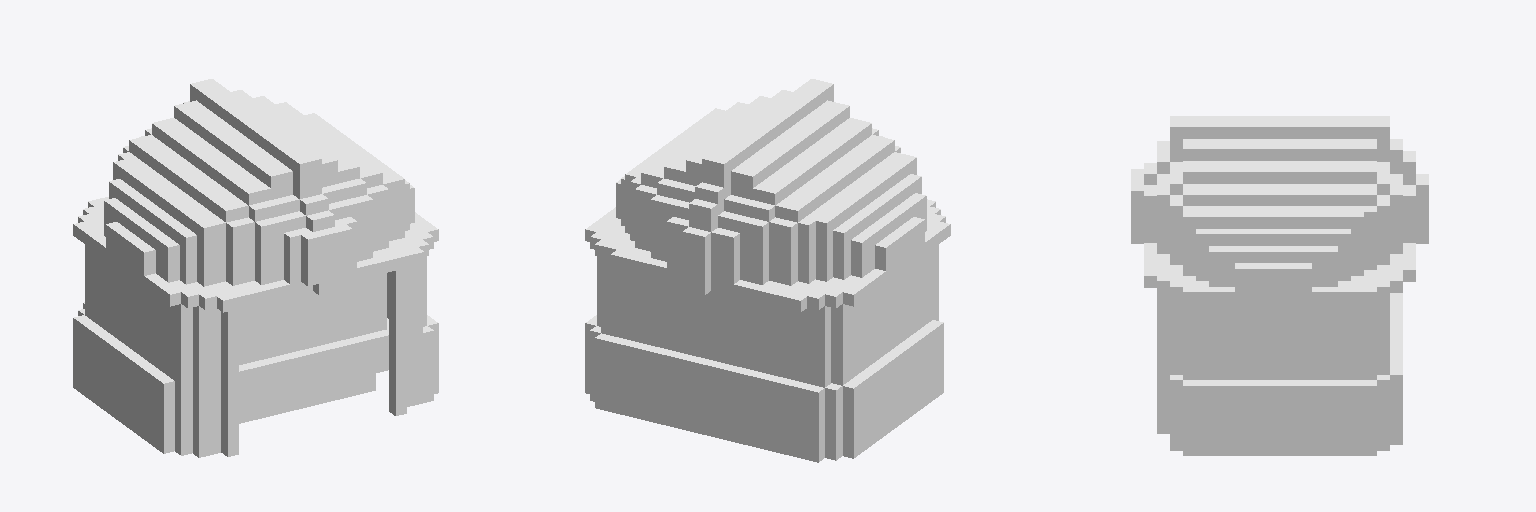
File: FFhead.obj
3 views of the same model, side by side, from view 1: azimuth 30°, elevation 25°; view 2: azimuth 150°, elevation 25°; view 3: azimuth 270°, elevation 25° (orthographic).
Parts seen in each view (by area): view 1: object 1; view 2: object 1; view 3: object 1.
Part boxes in pixels (bbox=[...]): object 1: bbox=[73, 79, 438, 457]; object 1: bbox=[585, 79, 950, 462]; object 1: bbox=[1131, 116, 1428, 455].
Bounding box in the file's own units: 2.4 × 2.3 × 2.3.